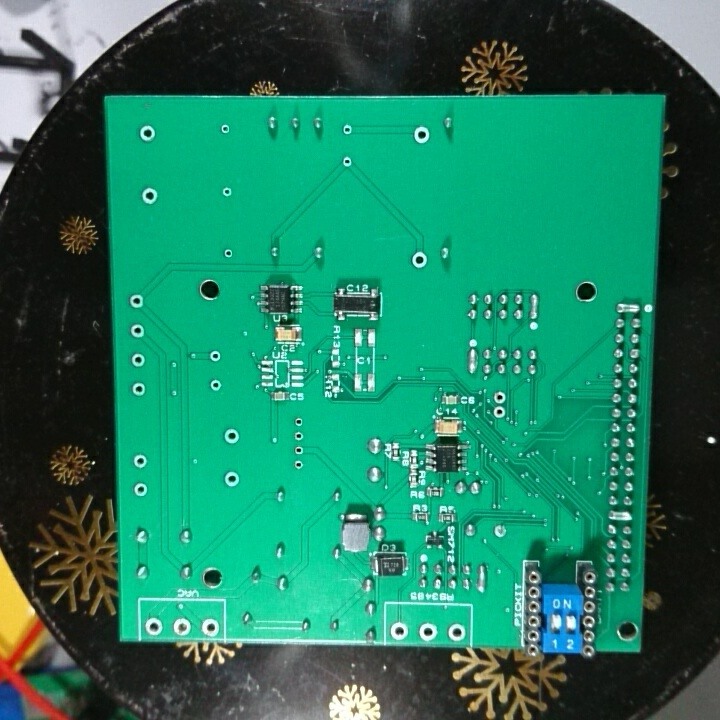F: (169, 613, 193, 638), (198, 614, 221, 639), (127, 346, 148, 372), (445, 620, 468, 643), (414, 619, 439, 640), (137, 123, 159, 146), (220, 426, 243, 448), (387, 618, 410, 640), (139, 184, 161, 206), (411, 123, 432, 146), (142, 615, 165, 636), (409, 249, 429, 271), (128, 320, 148, 342), (223, 469, 242, 491), (127, 292, 147, 312), (490, 522, 509, 543), (131, 452, 150, 472), (132, 479, 150, 499), (207, 375, 224, 396), (131, 381, 149, 399), (207, 349, 226, 366), (492, 402, 508, 420), (339, 121, 355, 138), (339, 152, 355, 169), (219, 121, 234, 138), (491, 389, 509, 403), (221, 246, 236, 261), (292, 456, 306, 472), (220, 184, 233, 201), (292, 443, 307, 457), (292, 415, 306, 429), (293, 429, 304, 442)
P: (605, 508, 636, 526), (476, 559, 489, 598), (527, 292, 544, 321), (466, 346, 480, 378), (614, 300, 643, 315)
